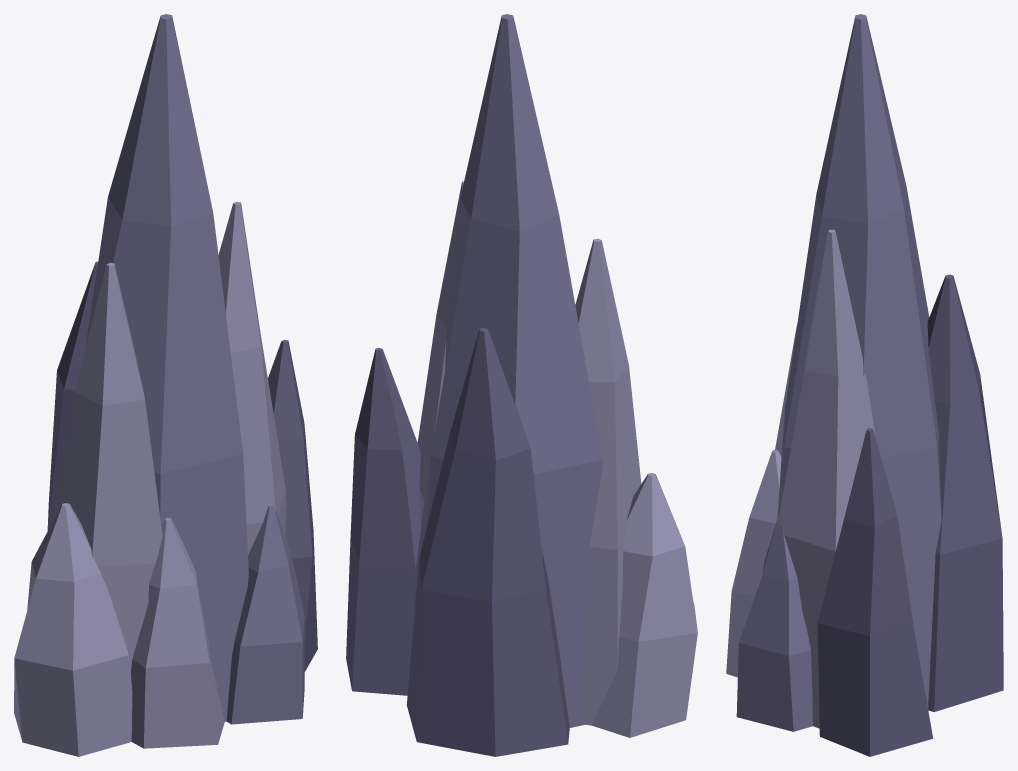
File: Stage_02_妖洞钟乳石柱.glb
The picture shows the model from 3 angles, left to right: view 1: azimuth 30°, elevation 25°; view 2: azimuth 150°, elevation 25°; view 3: azimuth 270°, elevation 25°; orthographic projection.
Visible parts, largest first — view 1: Stalag_Center, Stalag_UpperL, Stalag_LowL, Stalag_FrontL, Stalag_FrontR, Stalag_UpperR, Stalag_SideR, Stalag_Back; view 2: Stalag_Center, Stalag_Back, Stalag_SideR, Stalag_LowL, Stalag_UpperL, Stalag_UpperR; view 3: Stalag_Center, Stalag_Back, Stalag_SideR, Stalag_UpperR, Stalag_FrontR, Stalag_FrontL.
Boxes of the visible parts, bbox=[...] form: Stalag_Center: bbox=[85, 14, 248, 721]; Stalag_UpperL: bbox=[51, 263, 162, 673]; Stalag_LowL: bbox=[14, 503, 132, 756]; Stalag_FrontL: bbox=[131, 518, 224, 748]; Stalag_FrontR: bbox=[226, 505, 304, 724]; Stalag_UpperR: bbox=[218, 201, 286, 554]; Stalag_SideR: bbox=[268, 340, 317, 671]; Stalag_Back: bbox=[47, 261, 98, 530]; Stalag_Center: bbox=[414, 14, 602, 727]; Stalag_Back: bbox=[406, 328, 569, 756]; Stalag_SideR: bbox=[346, 348, 420, 695]; Stalag_LowL: bbox=[591, 473, 697, 737]; Stalag_UpperL: bbox=[575, 238, 641, 725]; Stalag_UpperR: bbox=[417, 181, 463, 527]; Stalag_Center: bbox=[777, 14, 941, 707]; Stalag_Back: bbox=[927, 274, 1003, 711]; Stalag_SideR: bbox=[817, 428, 933, 756]; Stalag_UpperR: bbox=[777, 229, 875, 728]; Stalag_FrontR: bbox=[736, 516, 812, 731]; Stalag_FrontL: bbox=[726, 450, 781, 677].
Bounding box in the file's own units: 2.44 × 4.8 × 1.82.
